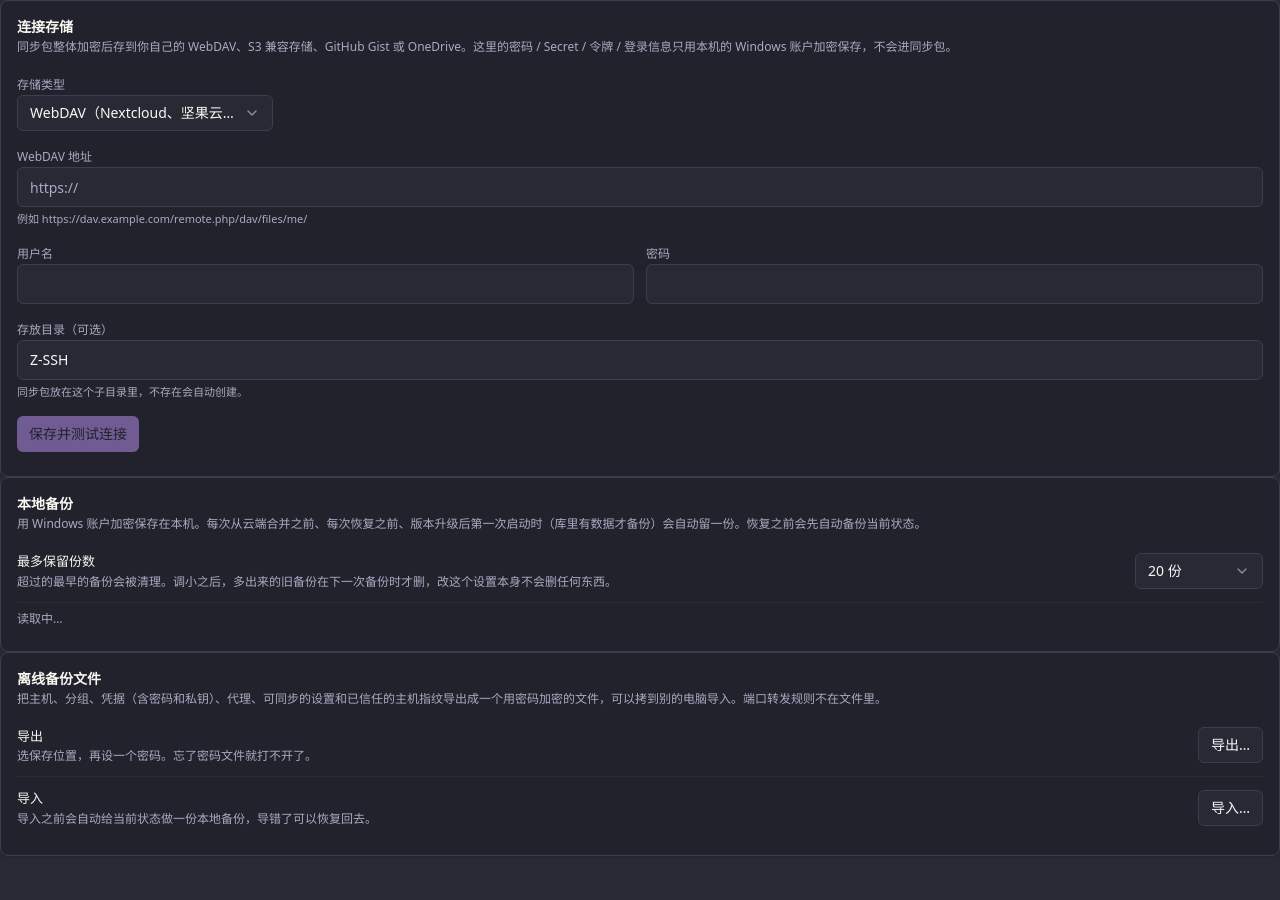
Test: OneDrive 存储选择和登录面板 › 存储类型里有 OneDrive，选中后是登录面板，没有“保存并测试连接”
Press the mouse on the dropdown "WebDAV（Nextcloud、坚果云、Alist、群晖……）": (145, 113) [17,95,273,131]
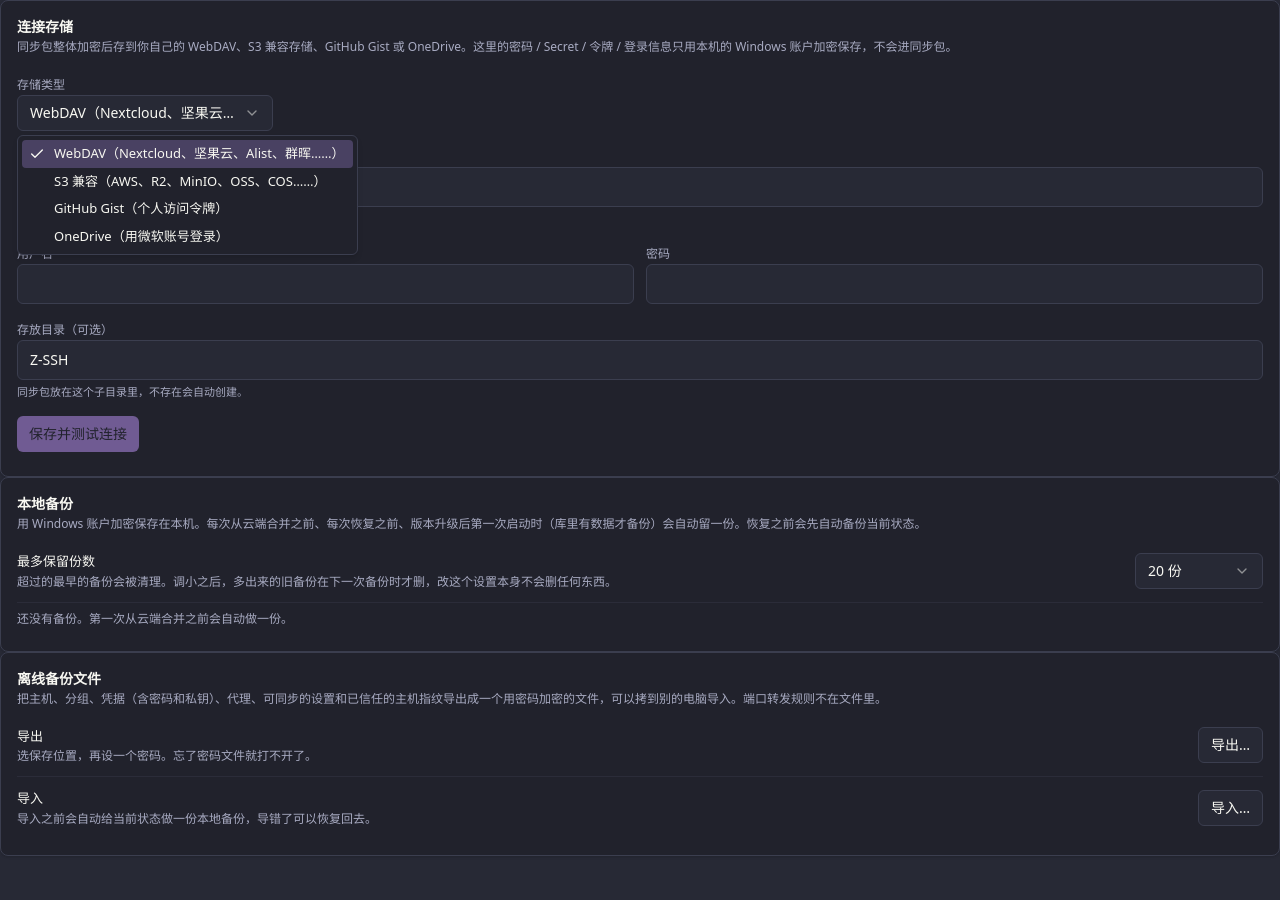
Click the option "OneDrive（用微软账号登录）": (141, 236) [54,226,229,244]
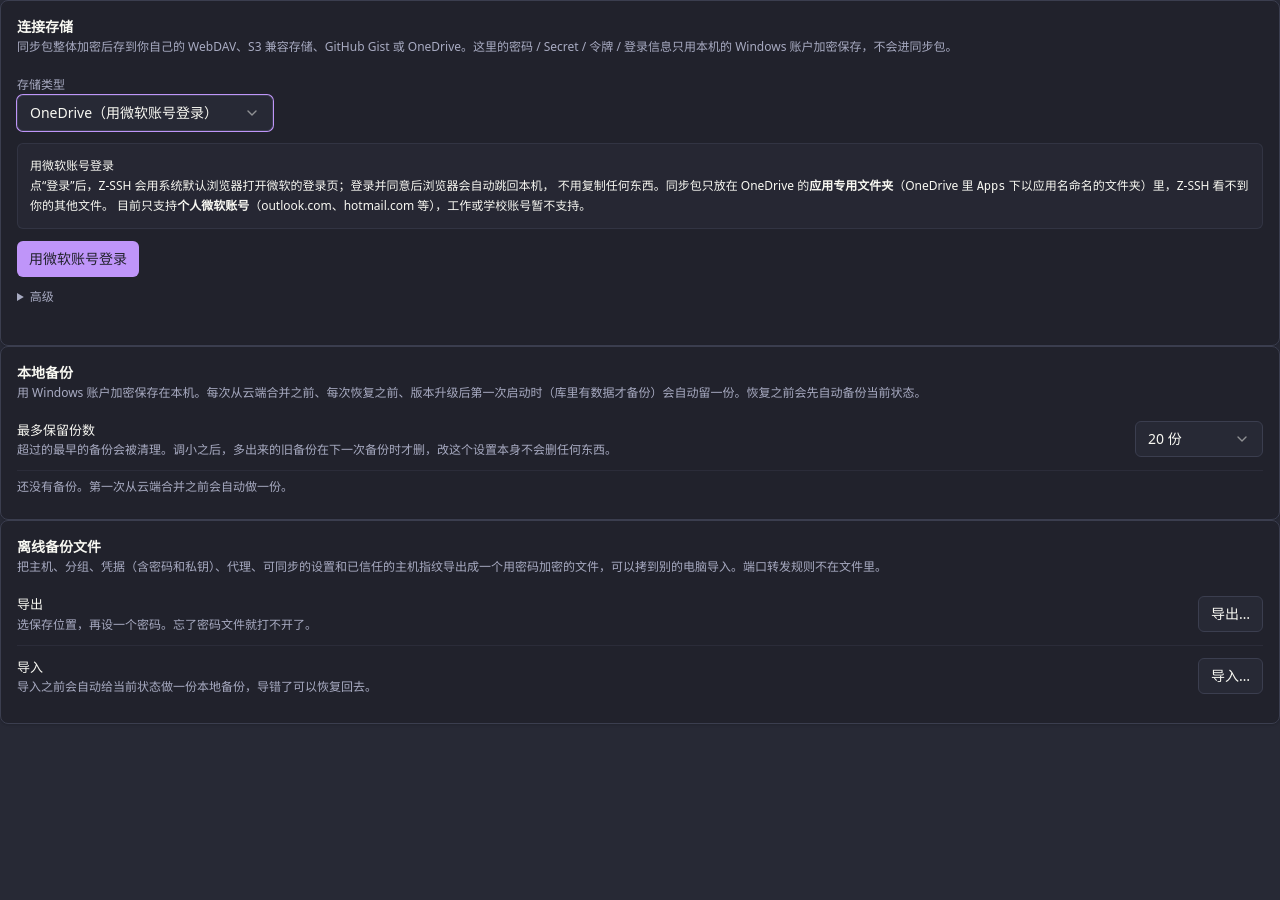
Expected: the element with test id "onedrive-fields" is shown, [17,143,1263,304]
Expected: the element with test id "onedrive-fields" shows "用微软账号登录", [30,157,114,174]
Expected: the element with test id "onedrive-fields" shows "系统默认浏览器", [30,176,809,194]
